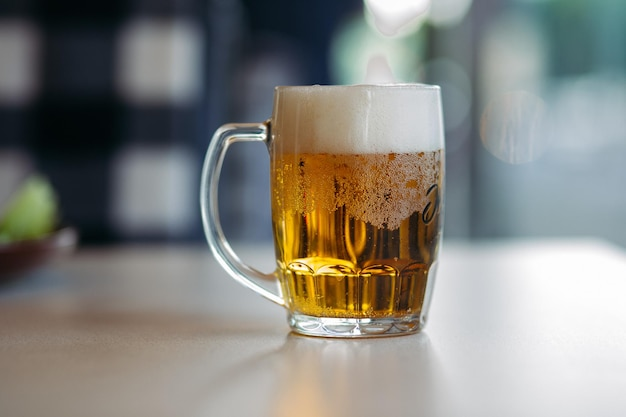alcohol: (201, 81, 445, 339)
